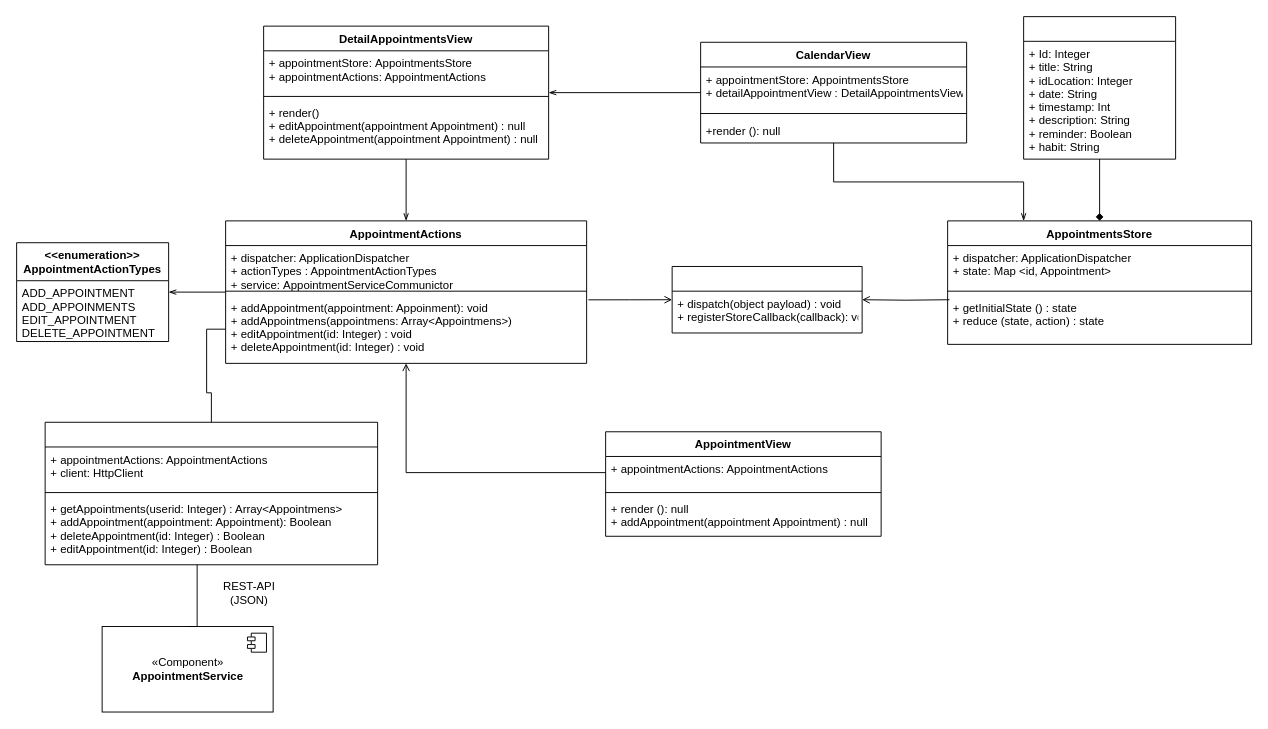
Some shapes in this 1268 by 729 pixel diagram are drawn without their labels. The box of each missing label's shape, as (x1, y1, x2, y2) in pixels:
ApplicationDispatcher: (671, 266, 862, 333)
Appointment: (1023, 16, 1176, 159)
AppointmentServiceCommunicator: (44, 421, 378, 565)
